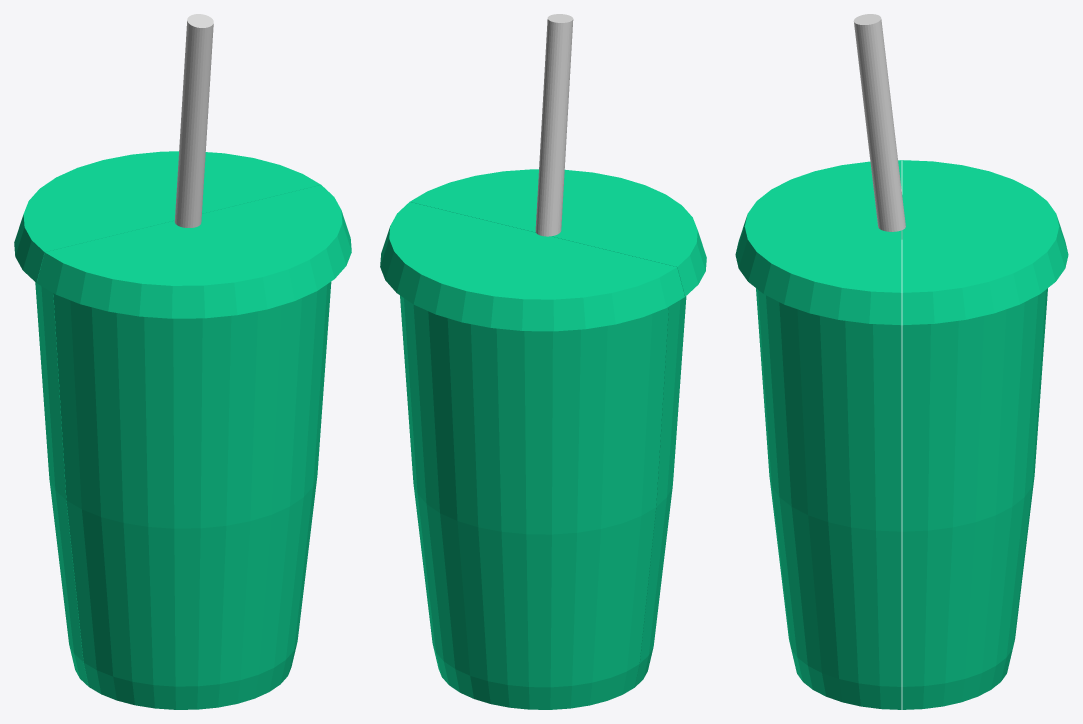
File: glass.fbx
3 renders of one model, left to right at view 1: azimuth 30°, elevation 25°; view 2: azimuth 150°, elevation 25°; view 3: azimuth 270°, elevation 25°, orthographic. The views are drawn at different scales.
Parts seen in each view (by area): view 1: Cylinder, Cylinder.002, Cylinder.001; view 2: Cylinder.002, Cylinder, Cylinder.001; view 3: Cylinder.002, Cylinder, Cylinder.001.
Part boxes in pixels (x1,y1,x2,y2): Cylinder: [36, 185, 351, 709]; Cylinder.002: [14, 151, 320, 686]; Cylinder.001: [174, 14, 213, 227]; Cylinder.002: [380, 202, 684, 709]; Cylinder: [410, 169, 706, 687]; Cylinder.001: [535, 14, 573, 236]; Cylinder.002: [902, 160, 1068, 709]; Cylinder: [735, 160, 901, 709]; Cylinder.001: [853, 14, 905, 239].
Bounding box in the file's own units: 278 × 597 × 279.
